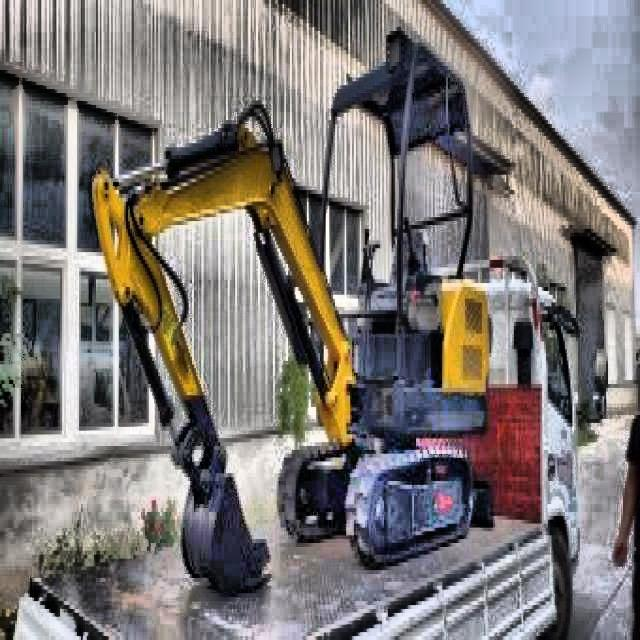bull_dozer/loader/grader: (90, 20, 494, 602)
person: (615, 398, 640, 640)
